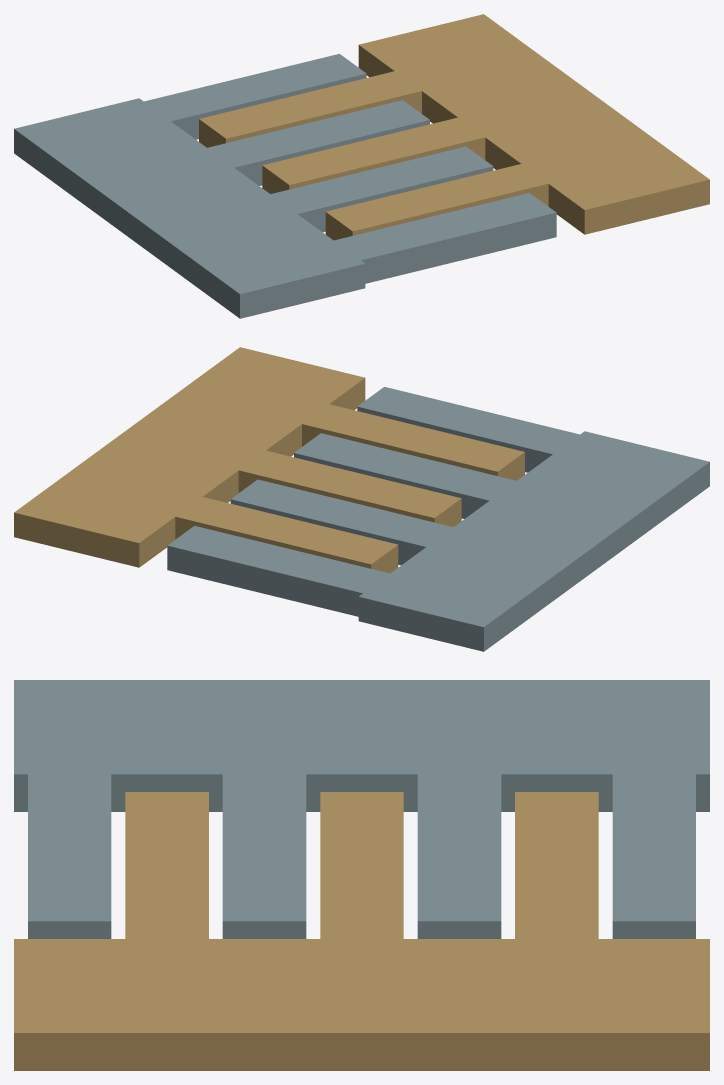
The picture shows the model from 3 angles, top to bottom: view 1: azimuth 30°, elevation 25°; view 2: azimuth 150°, elevation 25°; view 3: azimuth 270°, elevation 25°; orthographic projection. The views are drawn at different scales.
Parts seen in each view (by area): view 1: WholeLeftFourFingerPlate, WholeRightThreeFingerPlate; view 2: WholeLeftFourFingerPlate, WholeRightThreeFingerPlate; view 3: WholeLeftFourFingerPlate, WholeRightThreeFingerPlate.
Part boxes in pixels (bbox=[...]): WholeLeftFourFingerPlate: bbox=[14, 54, 556, 318]; WholeRightThreeFingerPlate: bbox=[199, 14, 709, 240]; WholeLeftFourFingerPlate: bbox=[167, 387, 709, 651]; WholeRightThreeFingerPlate: bbox=[14, 347, 524, 573]; WholeLeftFourFingerPlate: bbox=[14, 680, 709, 938]; WholeRightThreeFingerPlate: bbox=[14, 792, 709, 1070].
Bounding box in the file's own units: 1.2 × 0.06 × 1.
